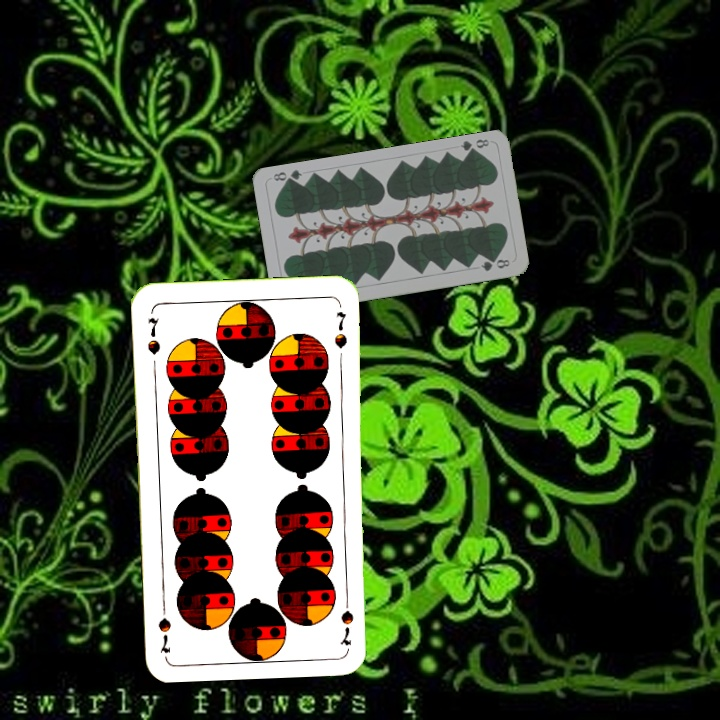G8: (456, 135, 491, 157)
S7: (337, 590, 356, 648), (143, 313, 163, 357)
